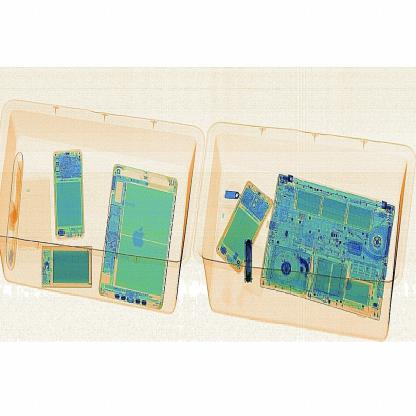scissors: (234, 232, 264, 290)
